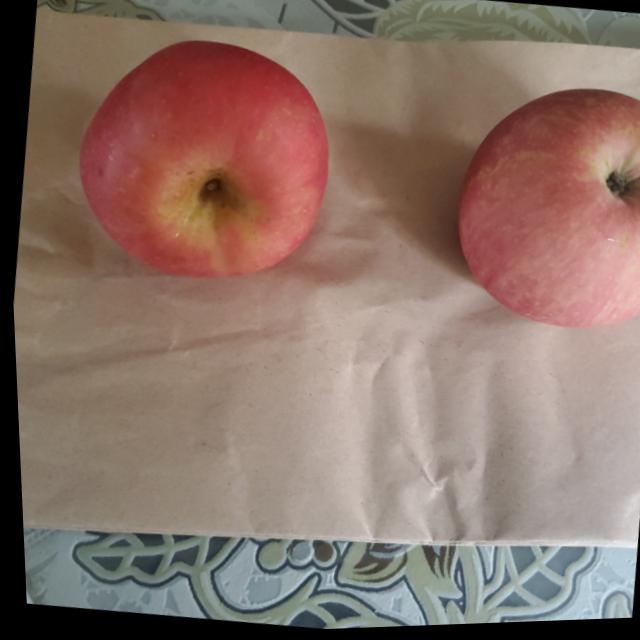apple: (59, 28, 344, 300), (441, 76, 640, 349)
